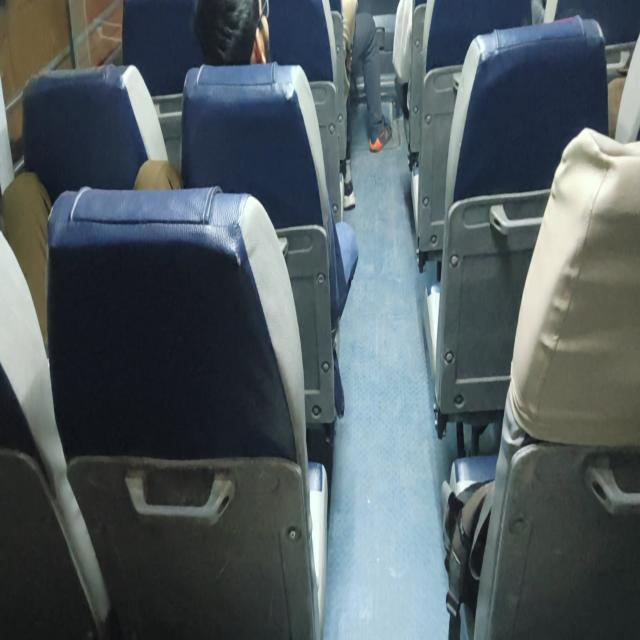person: (197, 0, 274, 55)
